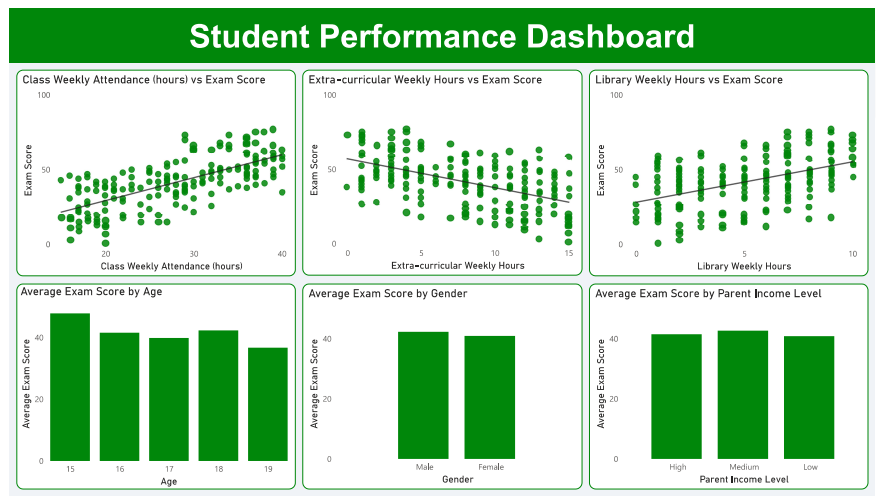

The dashboard page shown, as its layout file describes it:
{"tool":"powerbi","page":{"name":"Student Performance Dashboard","canvas":[1280,720],"ordinal":0},"visuals":[{"type":"shape","box":[0,80.6,1280,640],"z":0},{"type":"textbox","box":[0,0,1280,80],"z":1000},{"type":"shape","box":[10.1,90.7,1259.8,619.8],"z":2000},{"type":"scatterChart","title":"Class Weekly Attendance (hours) vs Exam Score","fields":{"X":["student_final_data.Class_weekly_attendance_hours"],"Y":["student_final_data.Previous_Exam_Score"]},"box":[10.1,90.7,413.2,305.7],"z":3000},{"type":"scatterChart","title":"Library Weekly Hours vs Exam Score","fields":{"X":["student_final_data.Library_weekly_hours"],"Y":["student_final_data.Previous_Exam_Score"]},"box":[856.7,90.7,413.2,305.7],"z":4000},{"type":"columnChart","fields":{"Category":["student_final_data.Parent_Income_Level"],"Y":["Avg(student_final_data.Previous_Exam_Score)"]},"box":[856.7,406.5,413.2,304],"z":5000},{"type":"columnChart","fields":{"Category":["student_final_data.Age"],"Y":["Avg(student_final_data.Previous_Exam_Score)"]},"box":[10.1,406.5,413.2,304],"z":6000},{"type":"columnChart","fields":{"Category":["student_final_data.Gender"],"Y":["Avg(student_final_data.Previous_Exam_Score)"]},"box":[433.4,406.5,413.2,304],"z":7000},{"type":"scatterChart","title":"Extra-curricular Weekly Hours vs Exam Score","fields":{"X":["student_final_data.Extra-curricular_weekly_hours"],"Y":["student_final_data.Previous_Exam_Score"]},"box":[433.4,90.7,413.2,304],"z":8000}]}

Visuals, with their boxes in screenshot pixels (x1, y1, x2, y2), scaled from the page's 1280x720 canvas onto the 884x502 screenshot:
shape: <bbox>0, 56, 883, 501</bbox>
textbox: <bbox>0, 0, 883, 56</bbox>
shape: <bbox>7, 63, 877, 495</bbox>
"Class Weekly Attendance (hours) vs Exam Score" scatterChart: <bbox>7, 63, 292, 276</bbox>
"Library Weekly Hours vs Exam Score" scatterChart: <bbox>592, 63, 877, 276</bbox>
columnChart - student_final_data.Parent_Income_Level x Avg(student_final_data.Previous_Exam_Score): <bbox>592, 283, 877, 495</bbox>
columnChart - student_final_data.Age x Avg(student_final_data.Previous_Exam_Score): <bbox>7, 283, 292, 495</bbox>
columnChart - student_final_data.Gender x Avg(student_final_data.Previous_Exam_Score): <bbox>299, 283, 585, 495</bbox>
"Extra-curricular Weekly Hours vs Exam Score" scatterChart: <bbox>299, 63, 585, 275</bbox>
